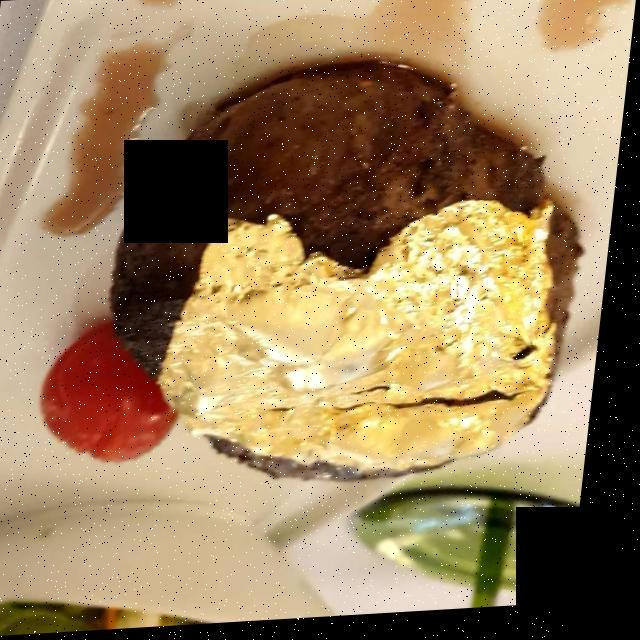beef: (110, 79, 564, 484)
